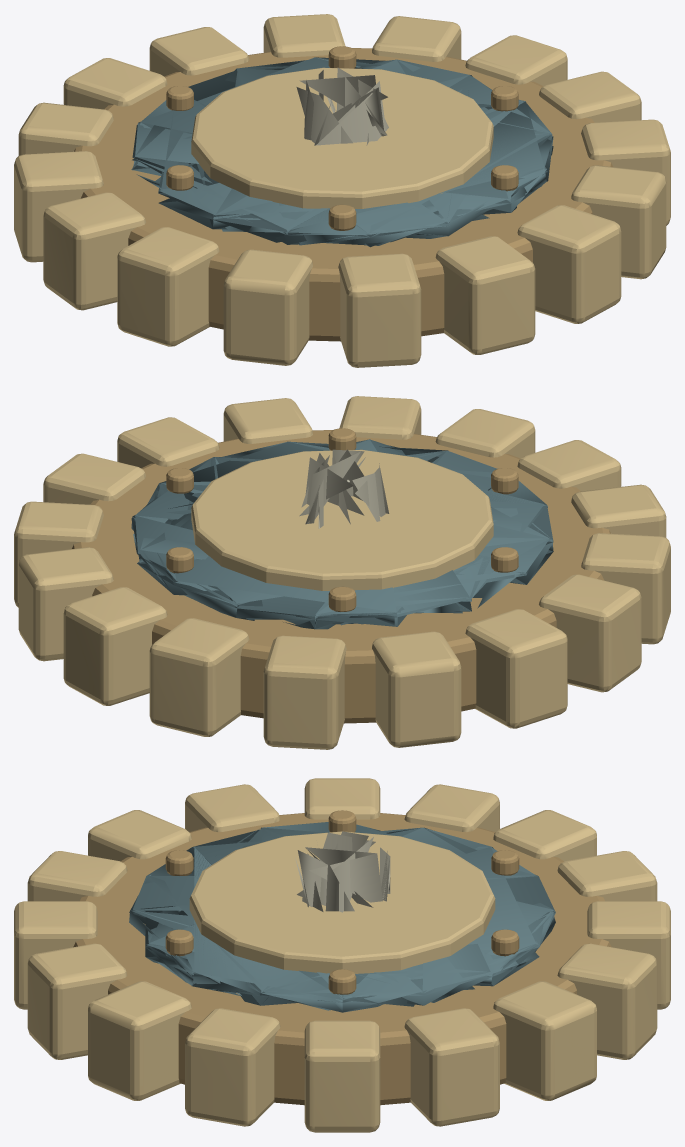
Rendered from drive.glb.
3 views of the same model, one above another, from view 1: azimuth 30°, elevation 25°; view 2: azimuth 150°, elevation 25°; view 3: azimuth 270°, elevation 25° (orthographic).
Parts seen in each view (by area): view 1: Surface_PolishedRim, Surface_Brass, Surface_Iron, Surface_Ivory; view 2: Surface_PolishedRim, Surface_Brass, Surface_Iron, Surface_Ivory; view 3: Surface_PolishedRim, Surface_Brass, Surface_Iron, Surface_Ivory.
Part boxes in pixels (left/top/right/bottom): Surface_PolishedRim: left=14, top=14, right=670, bottom=367; Surface_Brass: left=74, top=46, right=612, bottom=341; Surface_Iron: left=131, top=57, right=553, bottom=247; Surface_Ivory: left=296, top=67, right=388, bottom=145; Surface_PolishedRim: left=14, top=396, right=670, bottom=749; Surface_Brass: left=72, top=428, right=610, bottom=723; Surface_Iron: left=131, top=439, right=553, bottom=629; Surface_Ivory: left=299, top=449, right=389, bottom=528; Surface_PolishedRim: left=14, top=778, right=670, bottom=1132; Surface_Brass: left=73, top=810, right=611, bottom=1105; Surface_Iron: left=129, top=822, right=555, bottom=1012; Surface_Ivory: left=295, top=831, right=390, bottom=912.
Size of the model in its own units: 1.65 by 0.415 by 1.65.
